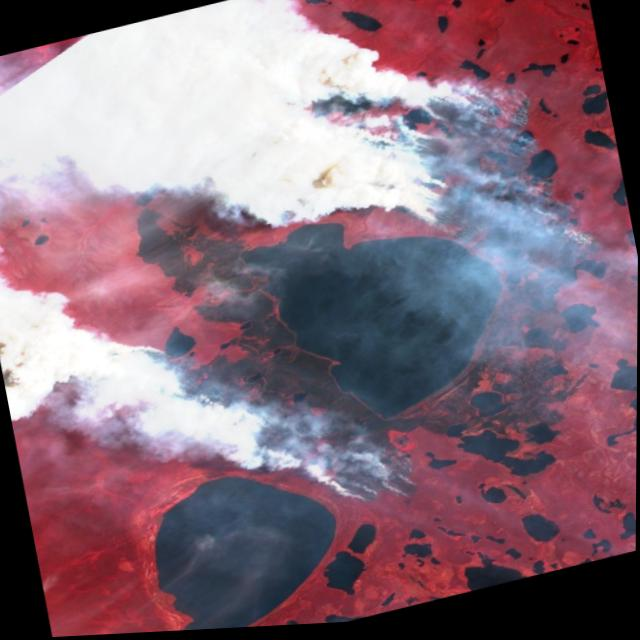fire: (0, 22, 640, 600)
